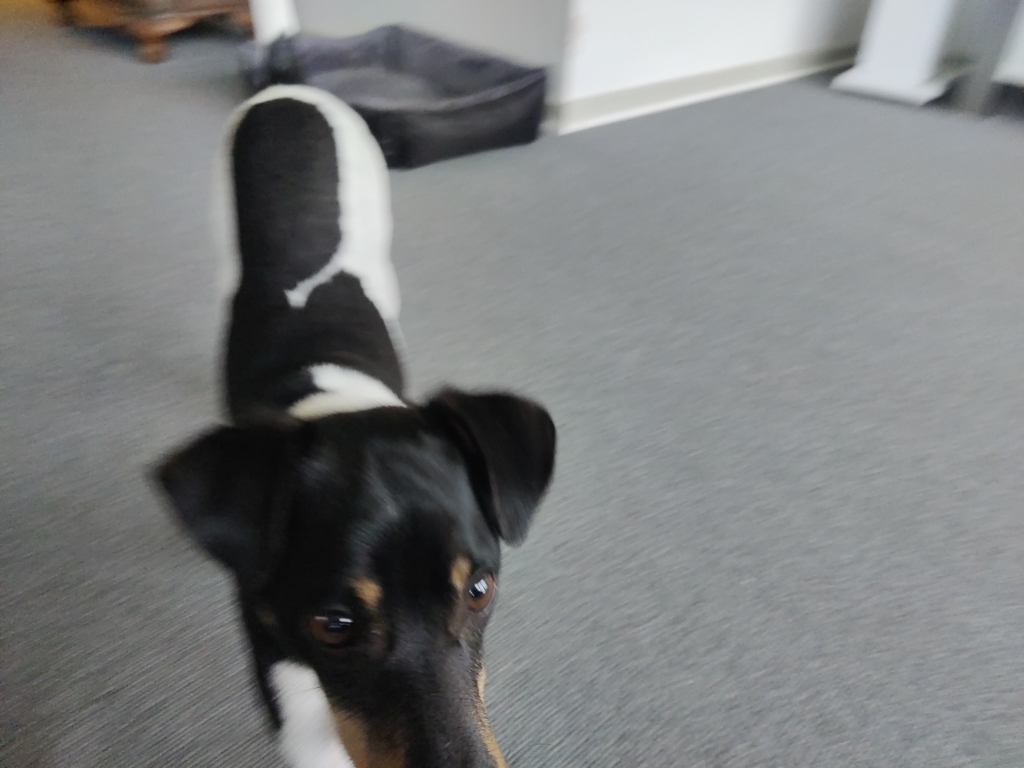Dog: (116, 0, 571, 768)
